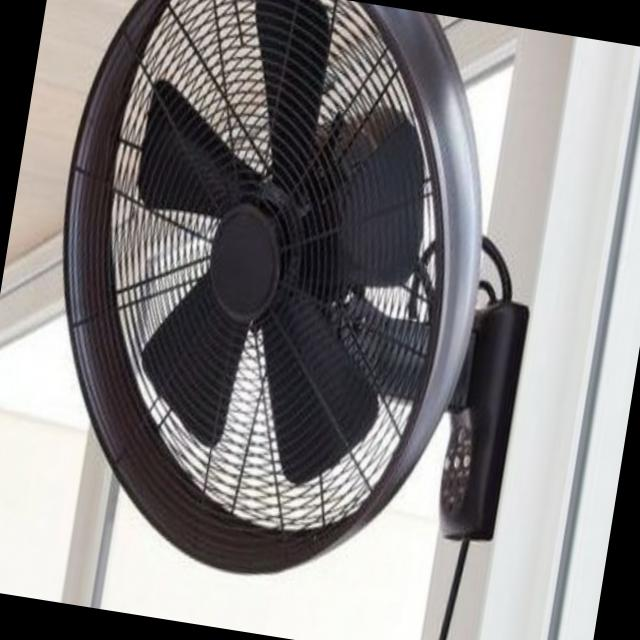fan: (1, 0, 588, 625)
